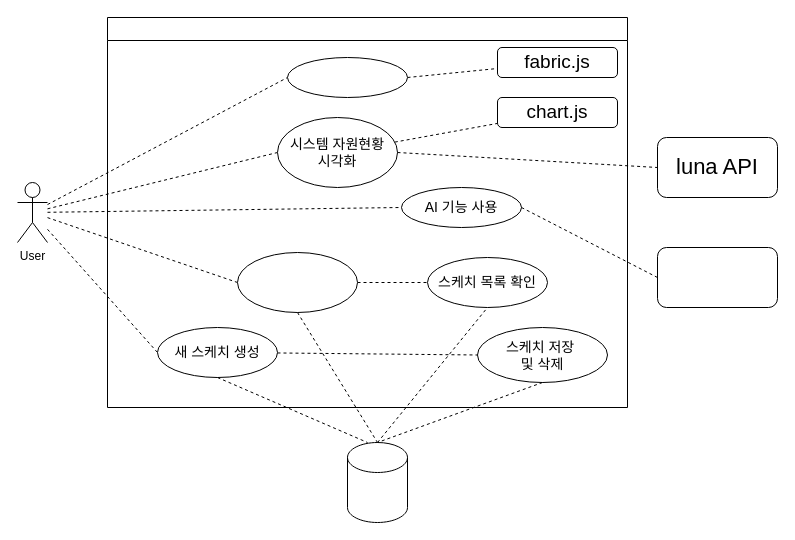
Image size: 795x540. Some labels were removed from this diagram. Each missing label, with the box of its shape:
Chatgpt API: (656, 246, 778, 308)
mongo DB: (346, 442, 408, 522)
Sketch Web App: (106, 16, 628, 408)
계정 생성 및 로그인: (236, 252, 358, 312)
스케치 기능 사용: (286, 56, 408, 98)
